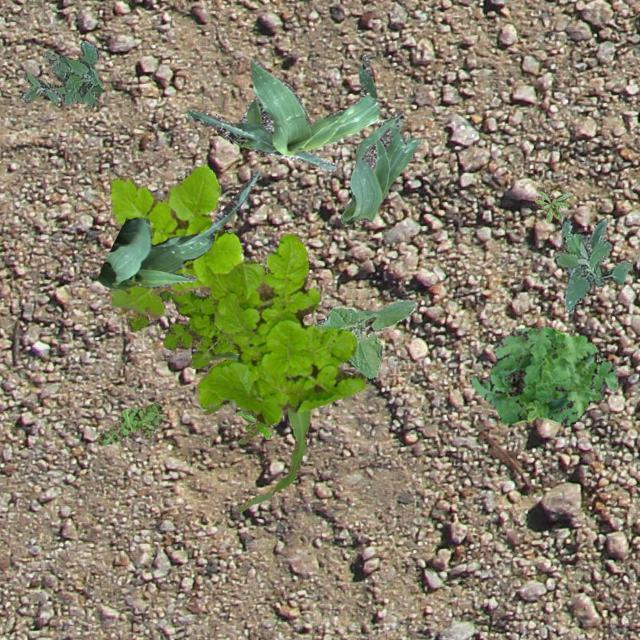crop: (185, 52, 378, 172), (96, 170, 258, 288), (199, 350, 309, 510), (339, 110, 418, 224), (312, 298, 416, 376)
weed: (108, 166, 368, 424), (468, 326, 618, 424), (125, 288, 238, 368), (554, 218, 632, 312), (19, 40, 100, 108), (96, 402, 164, 444), (534, 186, 570, 222), (237, 408, 280, 438)
